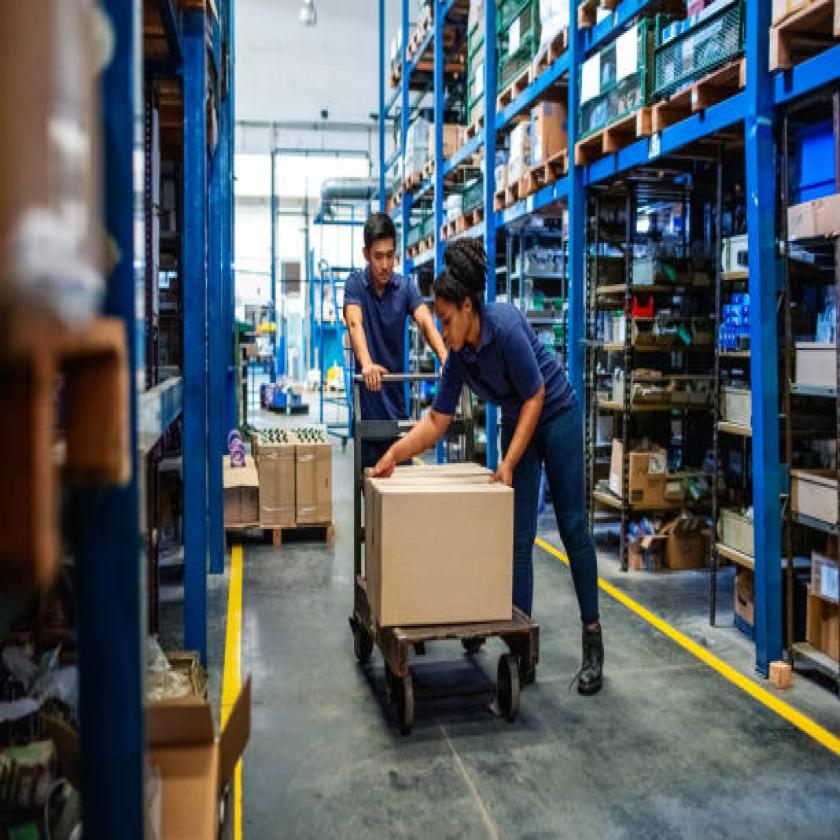Sin_casco: (433, 232, 499, 360), (345, 182, 415, 297)
